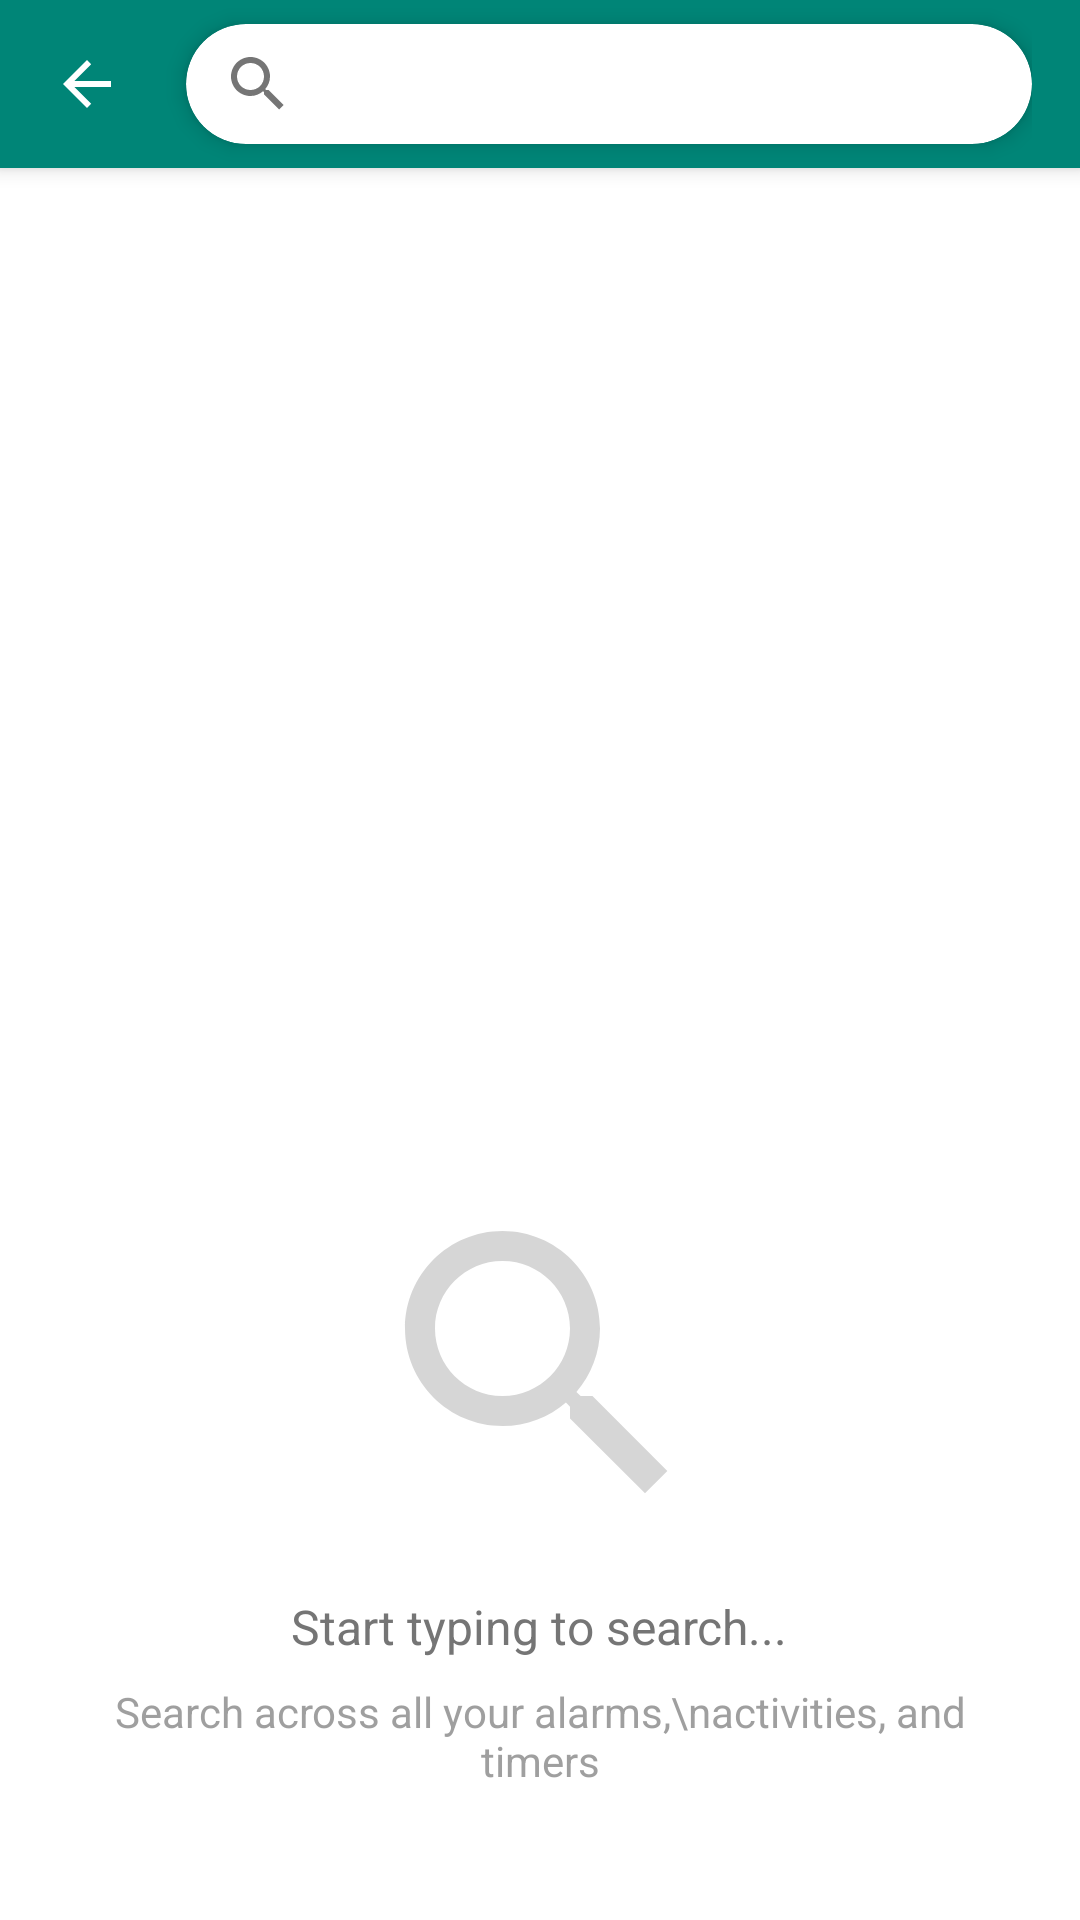

Named icons in this screenshot (1080x1920) and their centers, [x,y]:
Back: [87,84]
